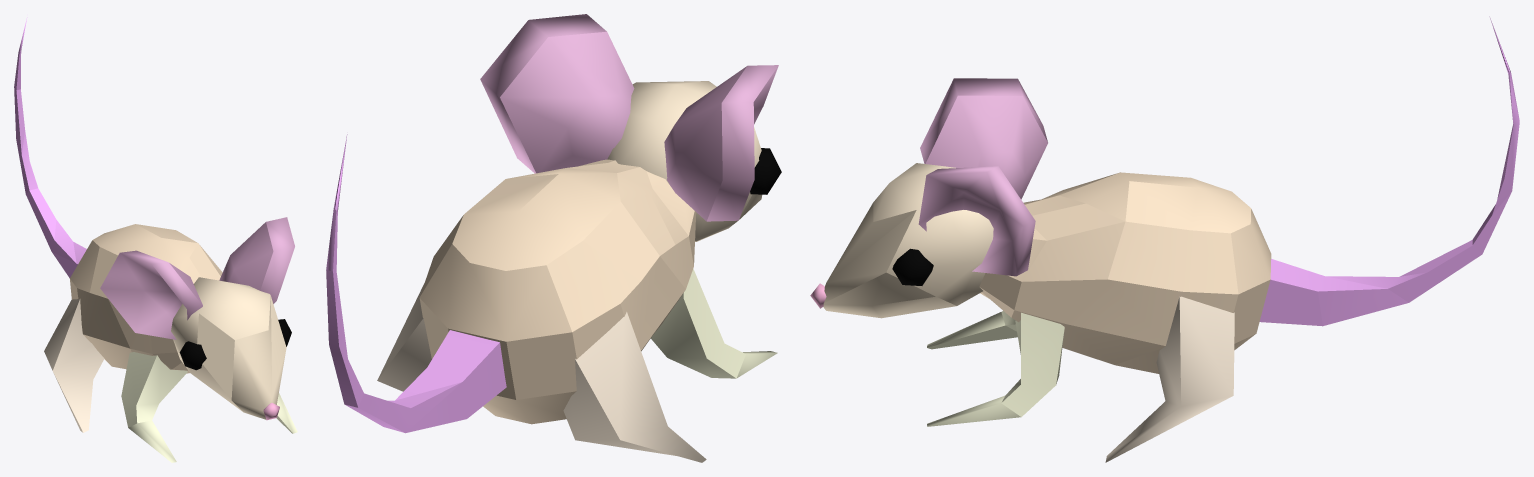
File: Rata_Blanca.fbx
3 views of the same model, side by side, from view 1: azimuth 30°, elevation 25°; view 2: azimuth 150°, elevation 25°; view 3: azimuth 270°, elevation 25° (orthographic). The views are drawn at different scales.
Visible parts, largest first — view 1: Sphere003, Cylinder001, Sphere007, Box002, Box003, Box001, Sphere005; view 2: Sphere007, Cylinder001, Box003, Box001, Sphere003, Box002, Sphere005; view 3: Sphere007, Cylinder001, Sphere003, Box001, Box003, Box002, Sphere006.
Part boxes in pixels (x1,y1,x2,y2): Sphere003: (171,277,286,419); Cylinder001: (100,217,294,339); Sphere007: (69,224,222,373); Box002: (121,352,297,462); Box003: (44,299,104,432); Box001: (14,17,86,277); Sphere005: (179,341,206,370); Sphere007: (419,159,696,424); Cylinder001: (480,14,778,221); Box003: (377,283,706,462); Box001: (326,134,506,433); Sphere003: (607,81,762,241); Box002: (651,269,777,378); Sphere005: (750,148,781,194); Sphere007: (979,172,1271,373); Cylinder001: (918,78,1047,276); Sphere003: (823,163,993,318); Box001: (1259,16,1519,326); Box003: (1105,296,1234,462); Box002: (927,311,1064,426); Sphere006: (892,248,933,285).
Size of the model in its own units: 1.98 by 3.03 by 4.97.
